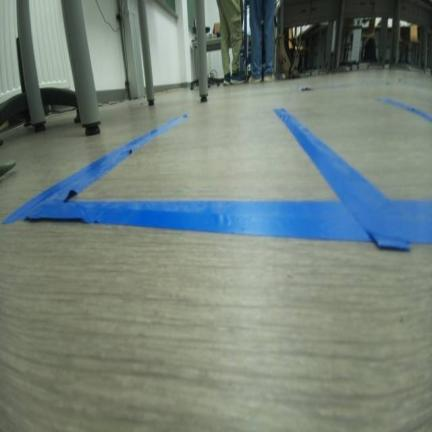place: (13, 107, 420, 236), (271, 95, 431, 250)
